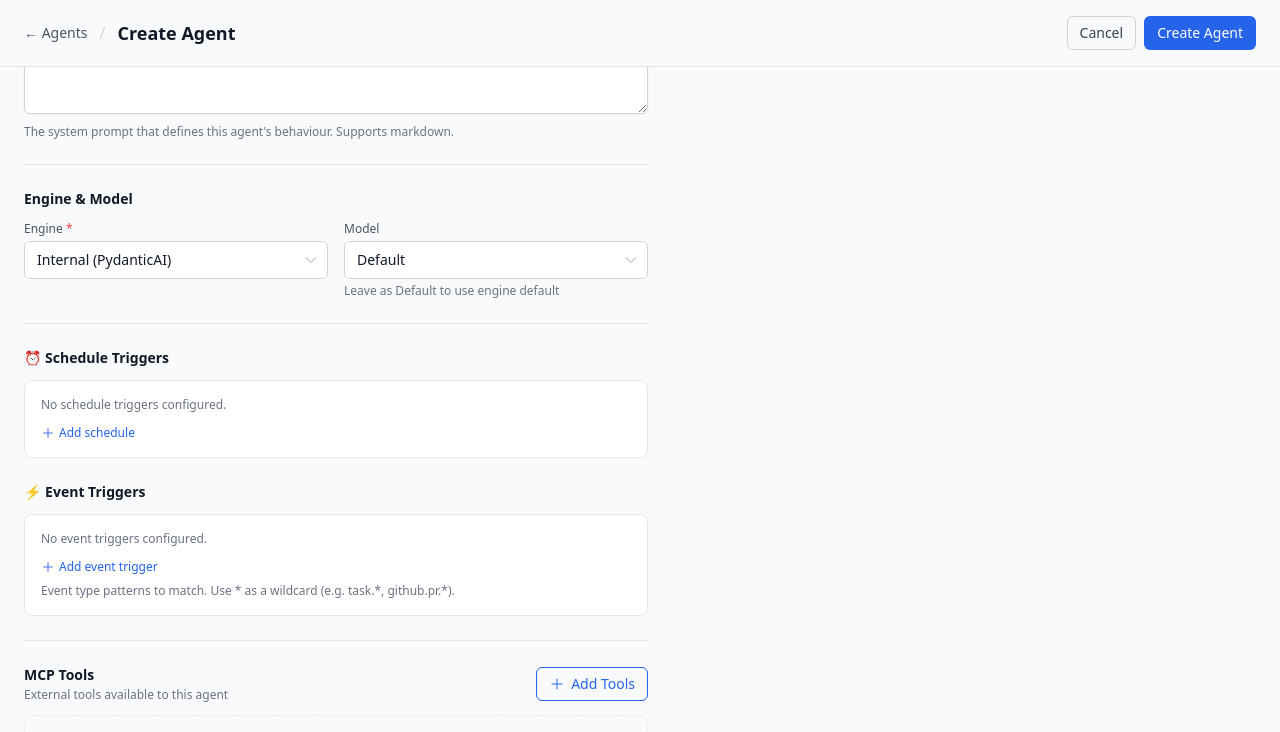
Test: BackgroundAgentEditor — create mode › shows validation error for invalid cron expression
(page scrolled)
Check: the heading "Create Agent" is shown, box [118,19,236,47]
# Add a schedule trigger
Click the button "Add schedule": (88, 433) [41,425,135,441]
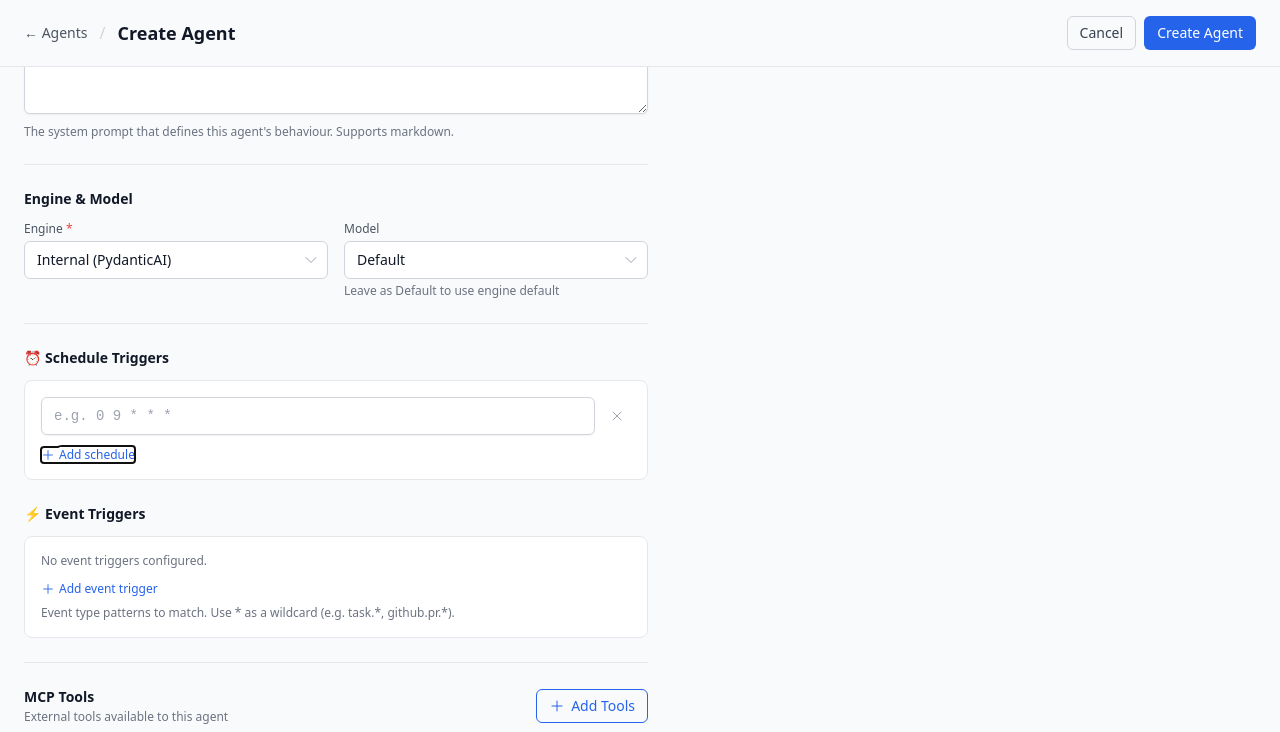
In the field named "Schedule trigger 1": (318, 416) [41,397,595,435], type "not-a-cron"
(page scrolled)
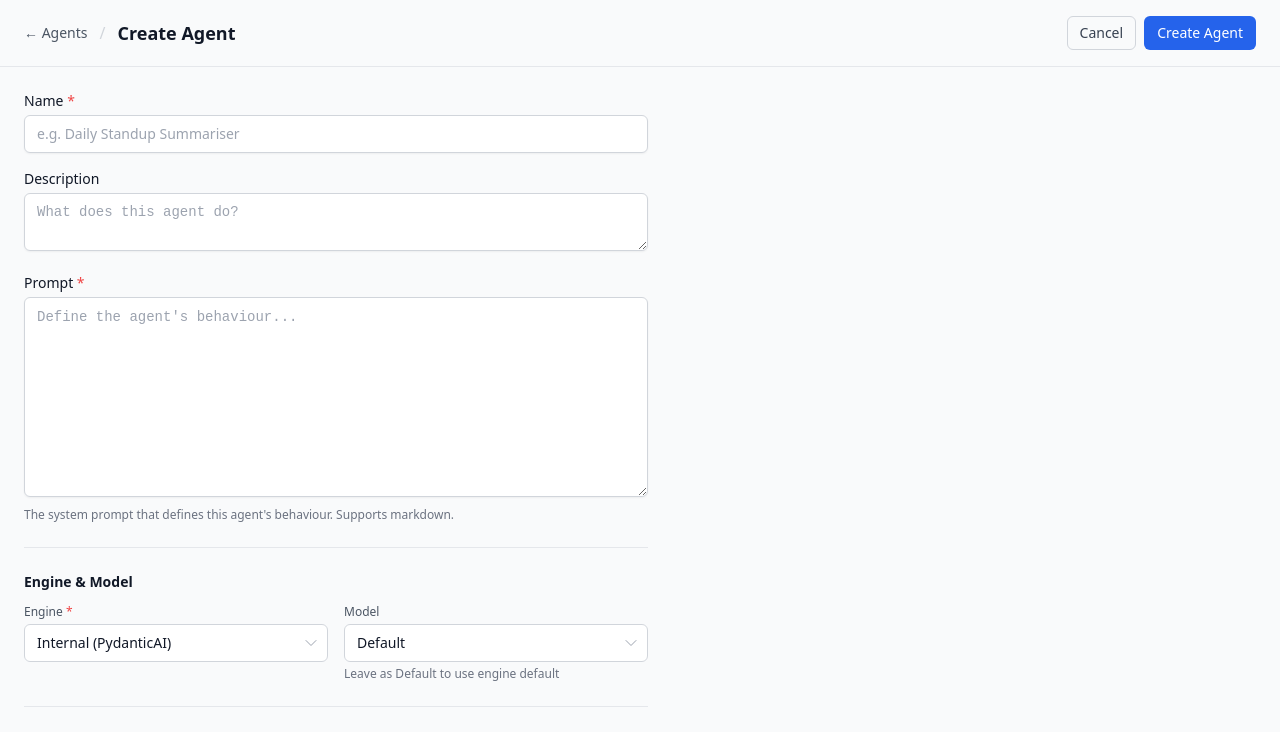
# Fill required fields then try to save
In the field with placeholder "e.g. Daily Standup Summariser": (336, 134) [24,115,648,153], type "My Agent"
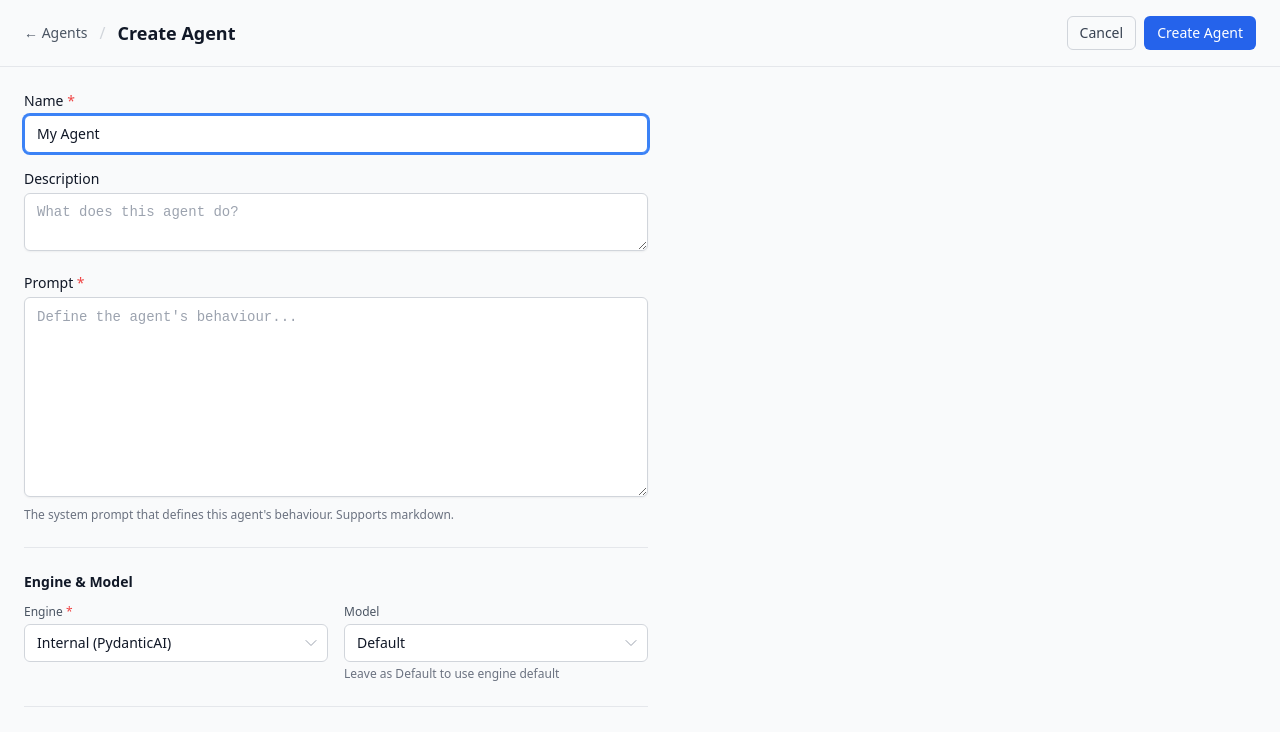
In the text box with placeholder "Define the agent's behaviour...": (336, 397) [24,297,648,497], type "Do something"
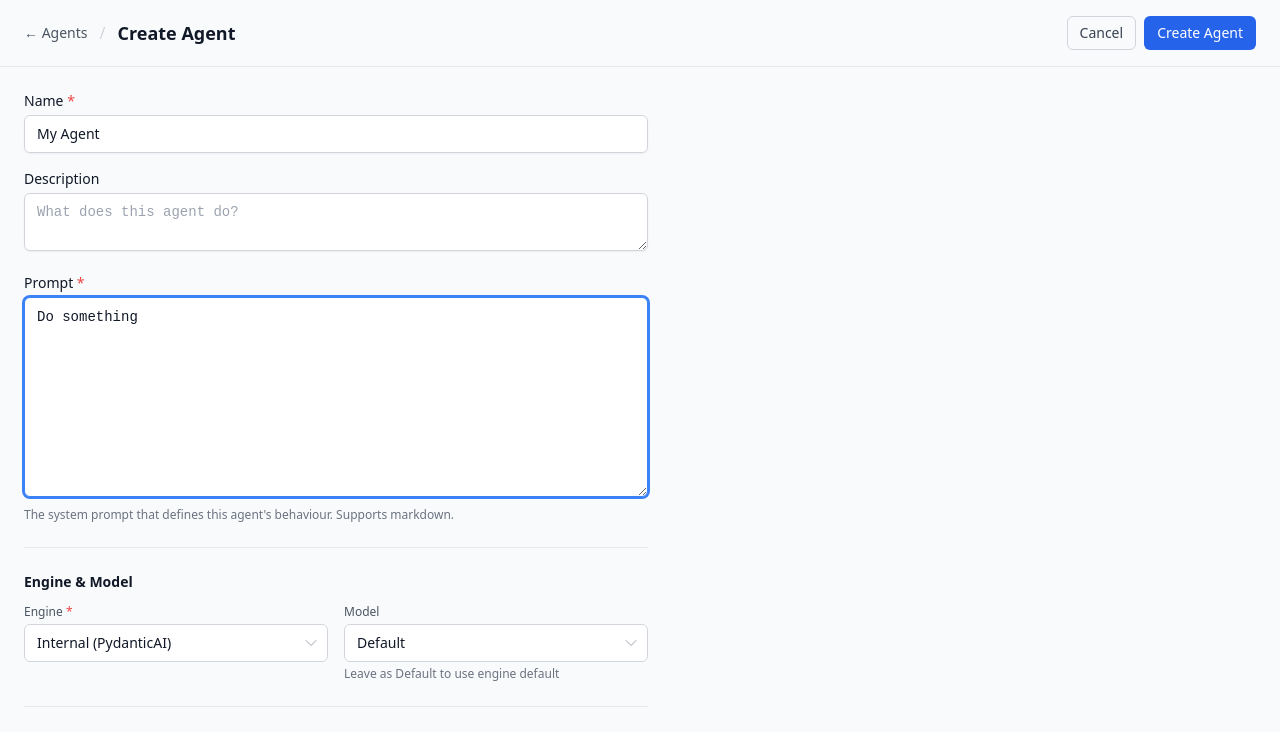
Click the button "Create Agent": (1200, 33) [1144,16,1256,50]
(page scrolled)
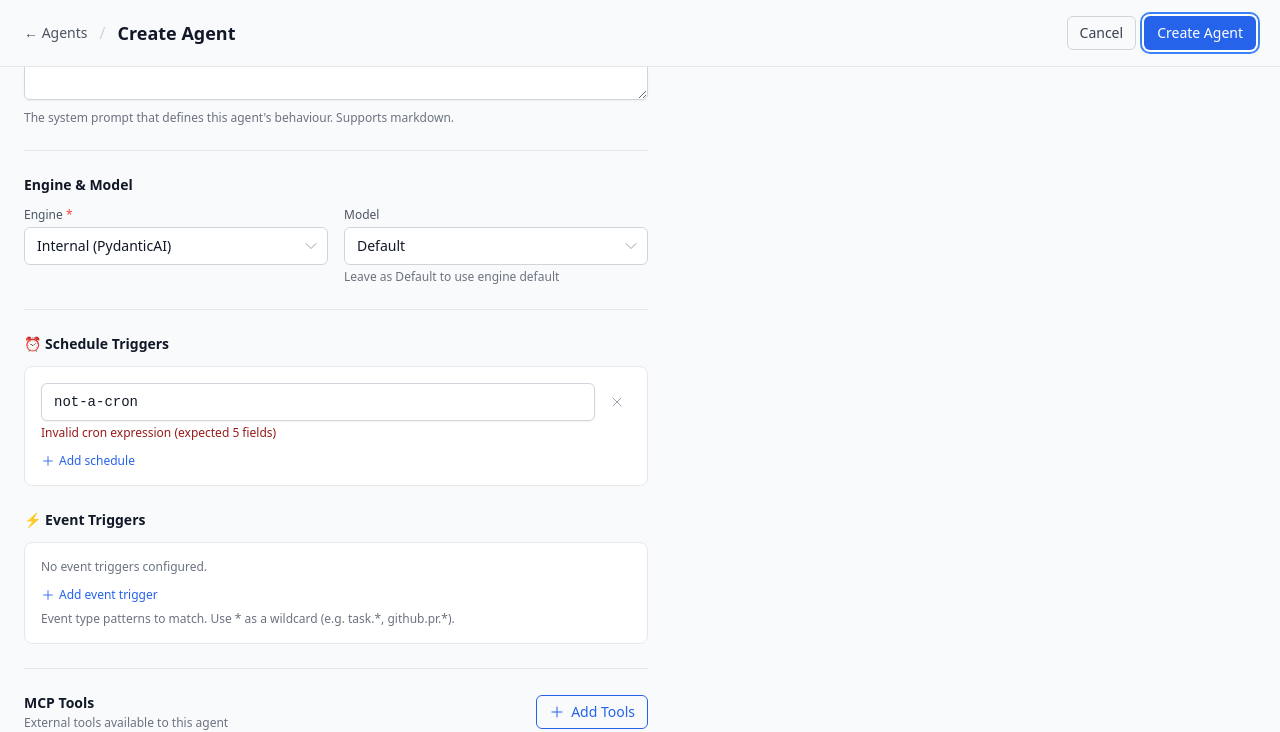
Check: the text "Invalid cron expression (expected 5 fields)" is shown, box [41,424,276,441]
